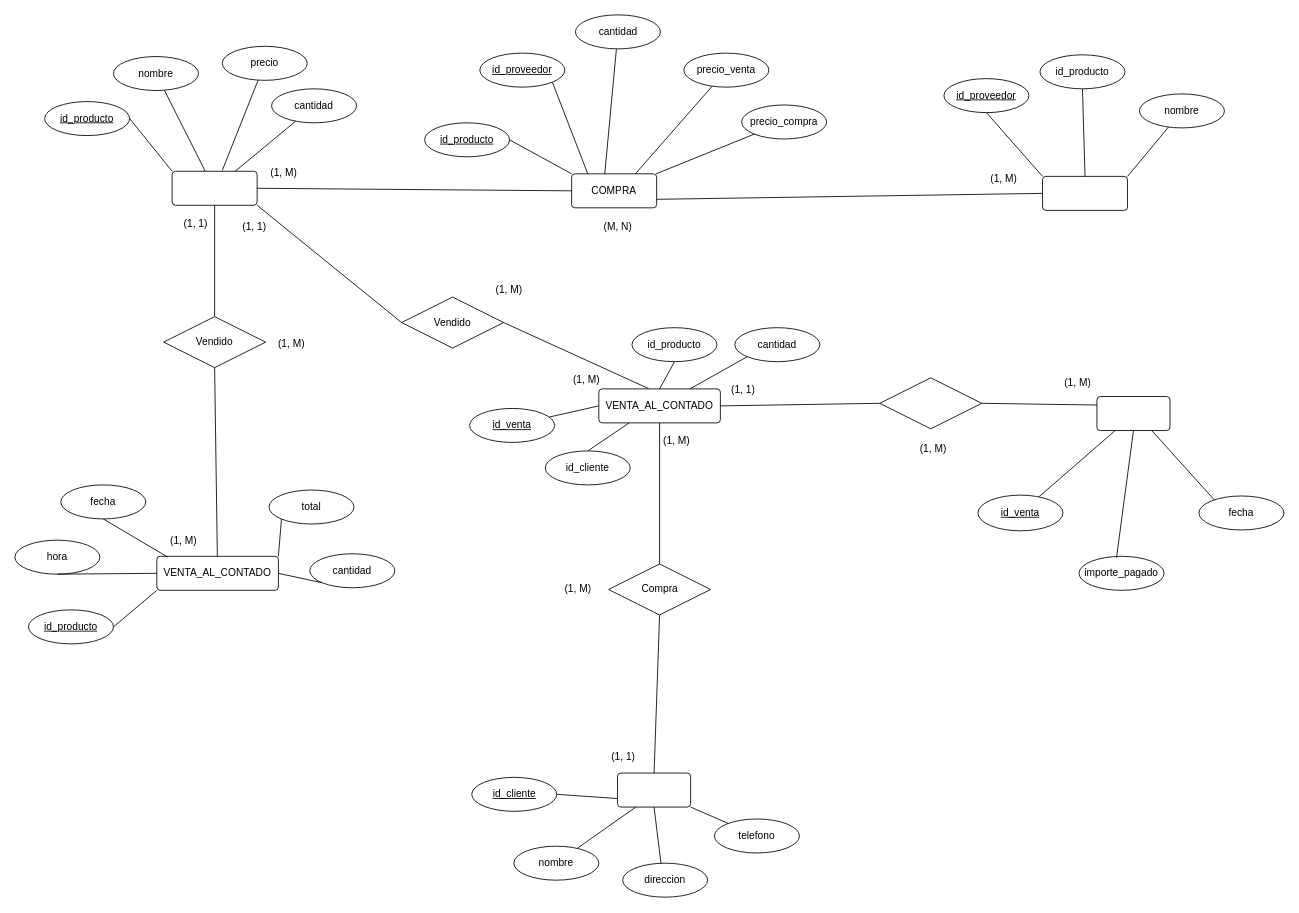
Image size: 1299x913. Some labels were removed from this diagram. The shapes that lost their labels are listed below. From the top down, each one's centre as x and y in pixels, then its label:
At point (214, 187): "PRODUCTO".
At point (1085, 193): "PROVEEDOR".
At point (930, 403): "Realiza".
At point (1133, 413): "PAGO".
At point (654, 789): "CLIENTE".
